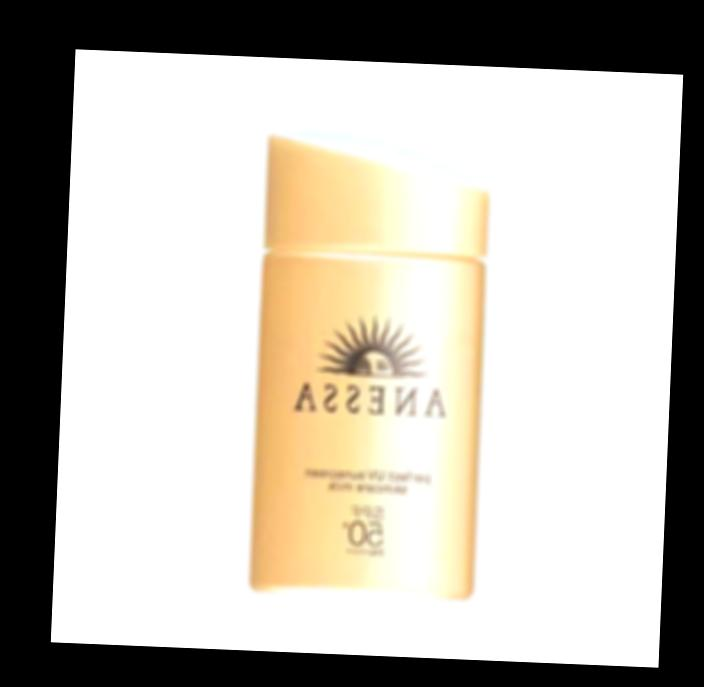cosmetic: (246, 129, 490, 594)
